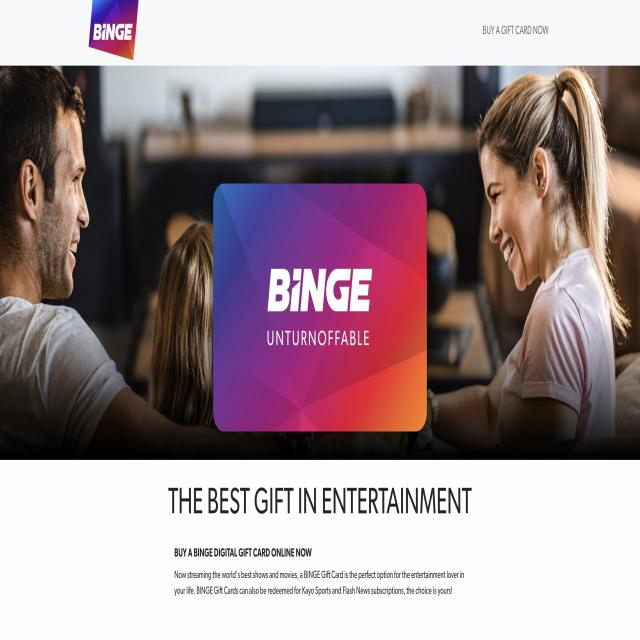Logo: (83, 0, 142, 65)
